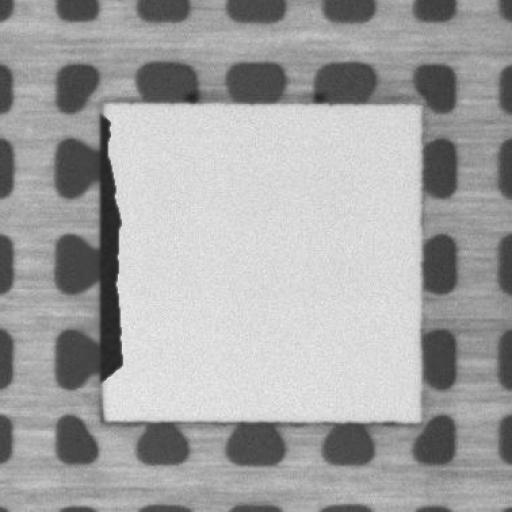DIE_BROKEN: (95, 107, 124, 382)
